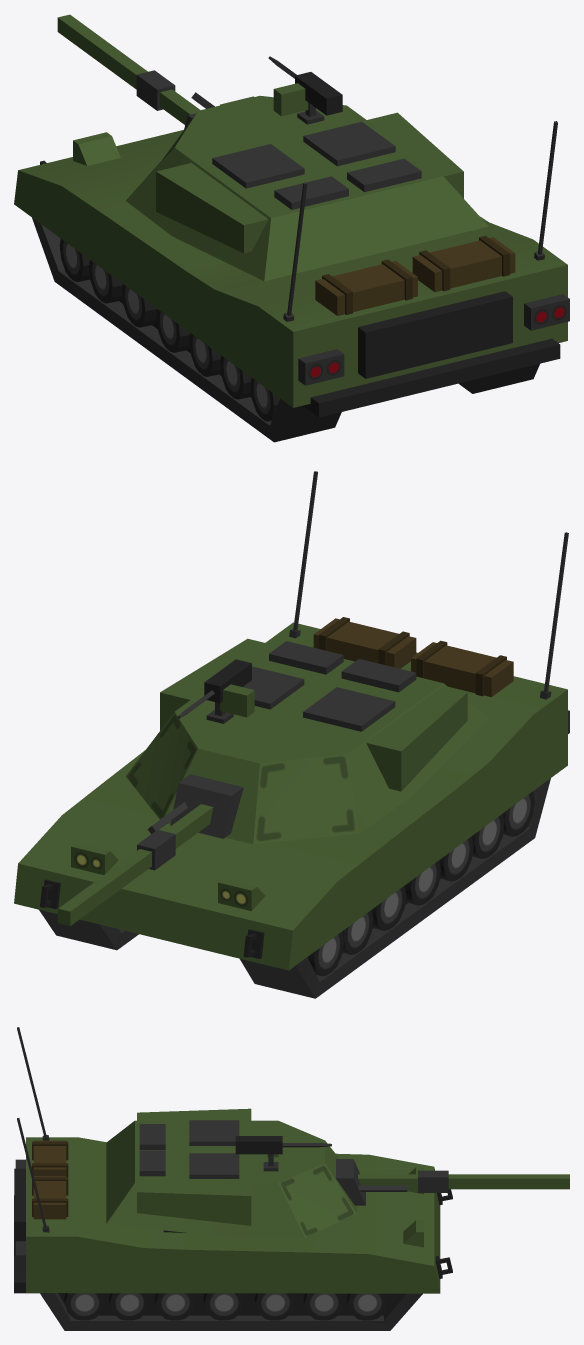
Rendered from Tank (2).fbx.
3 views of the same model, one above another, from view 1: azimuth 30°, elevation 25°; view 2: azimuth 150°, elevation 25°; view 3: azimuth 270°, elevation 25° (orthographic). The views are drawn at different scales.
Visible parts, largest first — view 1: Tank; view 2: Tank; view 3: Tank.
Part boxes in pixels (x1=…): Tank: x1=14, y1=14, x2=569, y2=442; Tank: x1=14, y1=471, x2=569, y2=998; Tank: x1=14, y1=1027, x2=569, y2=1330.
Size of the model in its own units: 2121 by 2084 by 5010.
